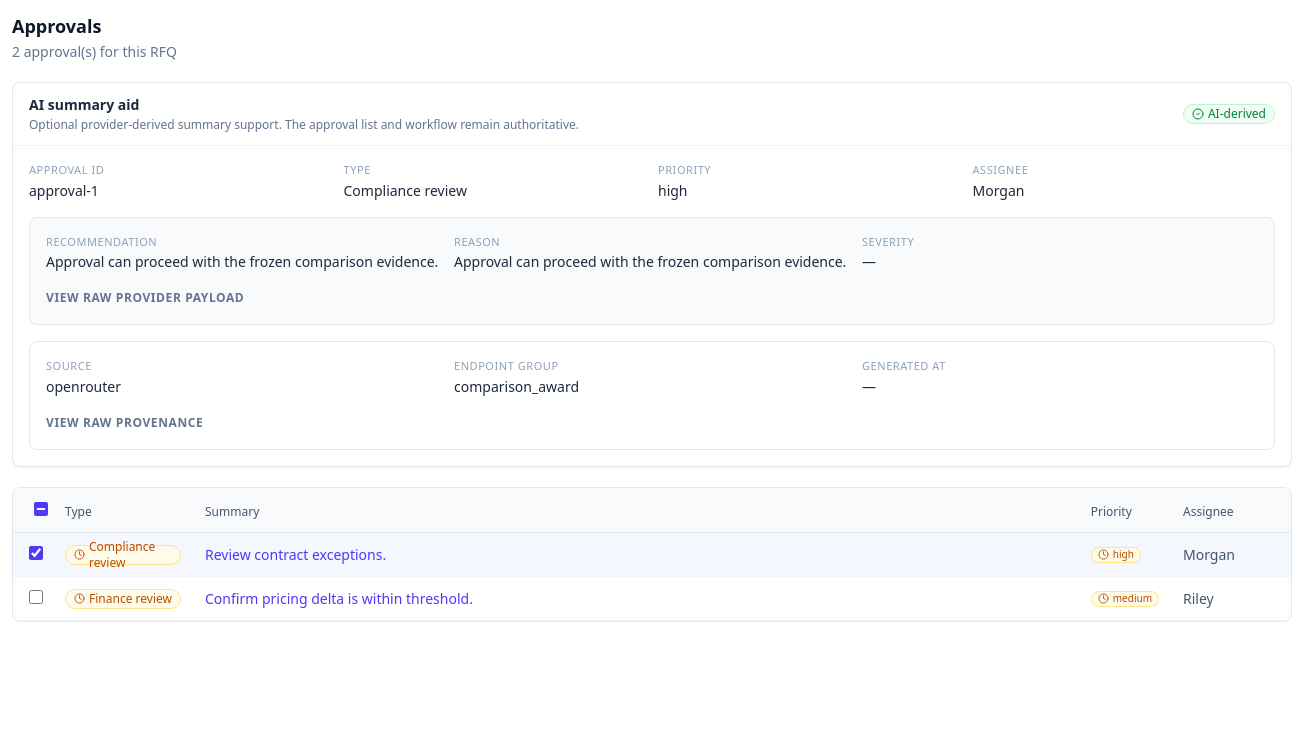
Test case: ApprovalsListPage › updates the summary when a different approval row is selected
Expected: the text "Approval can proceed with the frozen comparison evidence." below "Recommendation" is shown, [46,252,438,271]
Expected: the text "Finance review" is shown, [89,590,172,606]
Click the checkbox next to "Finance review". click: (36, 597)
box: [29,590,43,604]
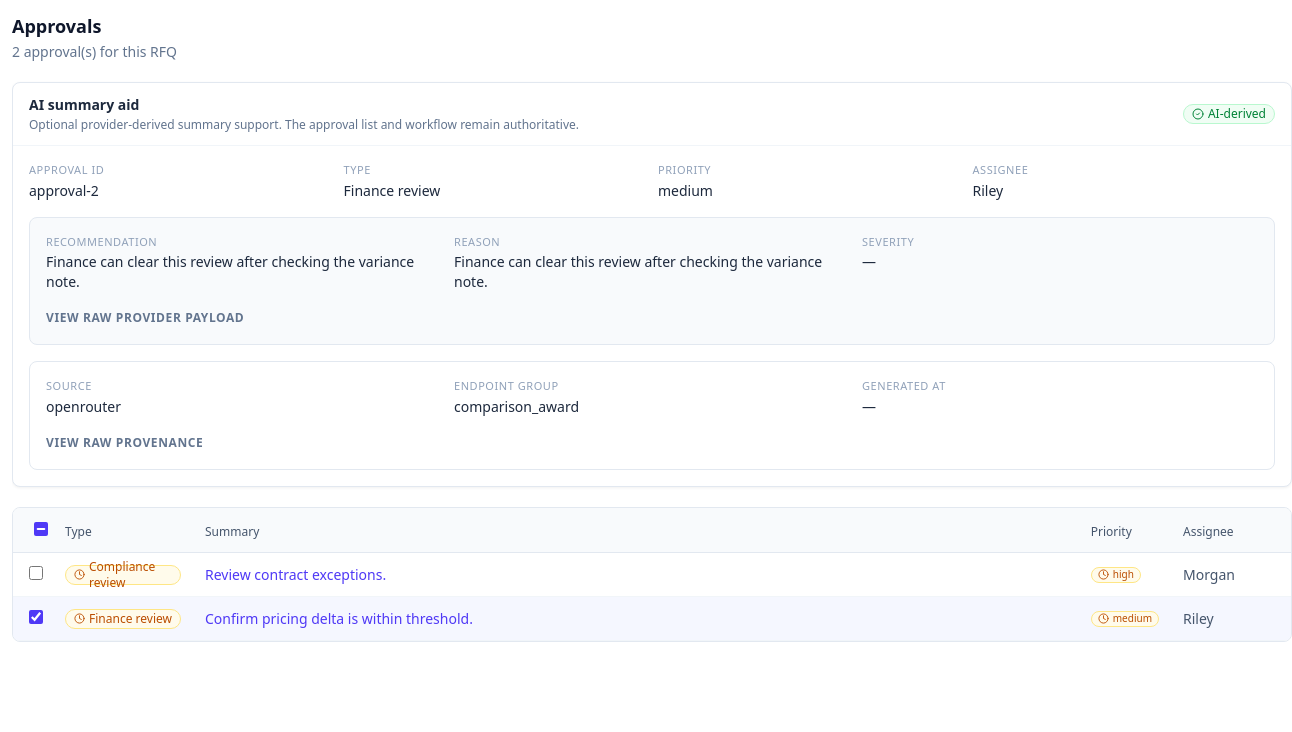
Result: the text "Finance can clear this review" below "Recommendation" is shown at [46,252,414,291]
